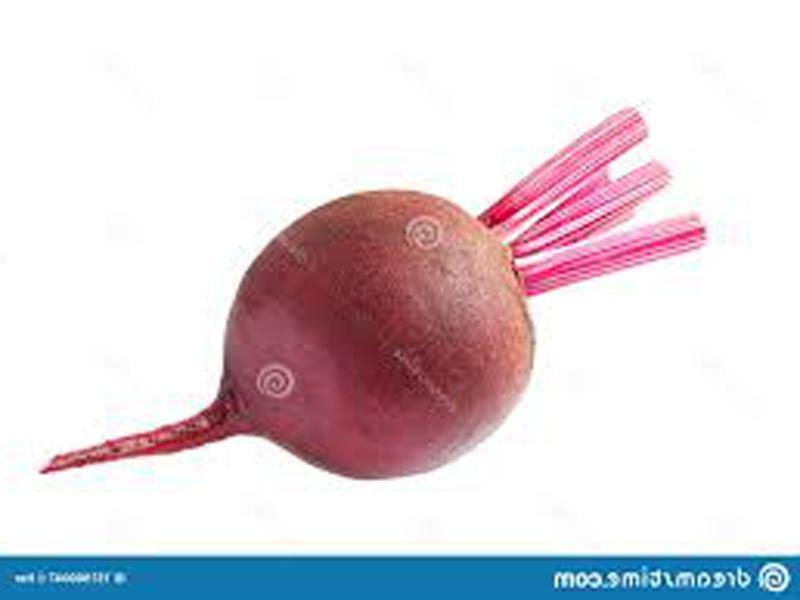Beet: (46, 111, 703, 474)
